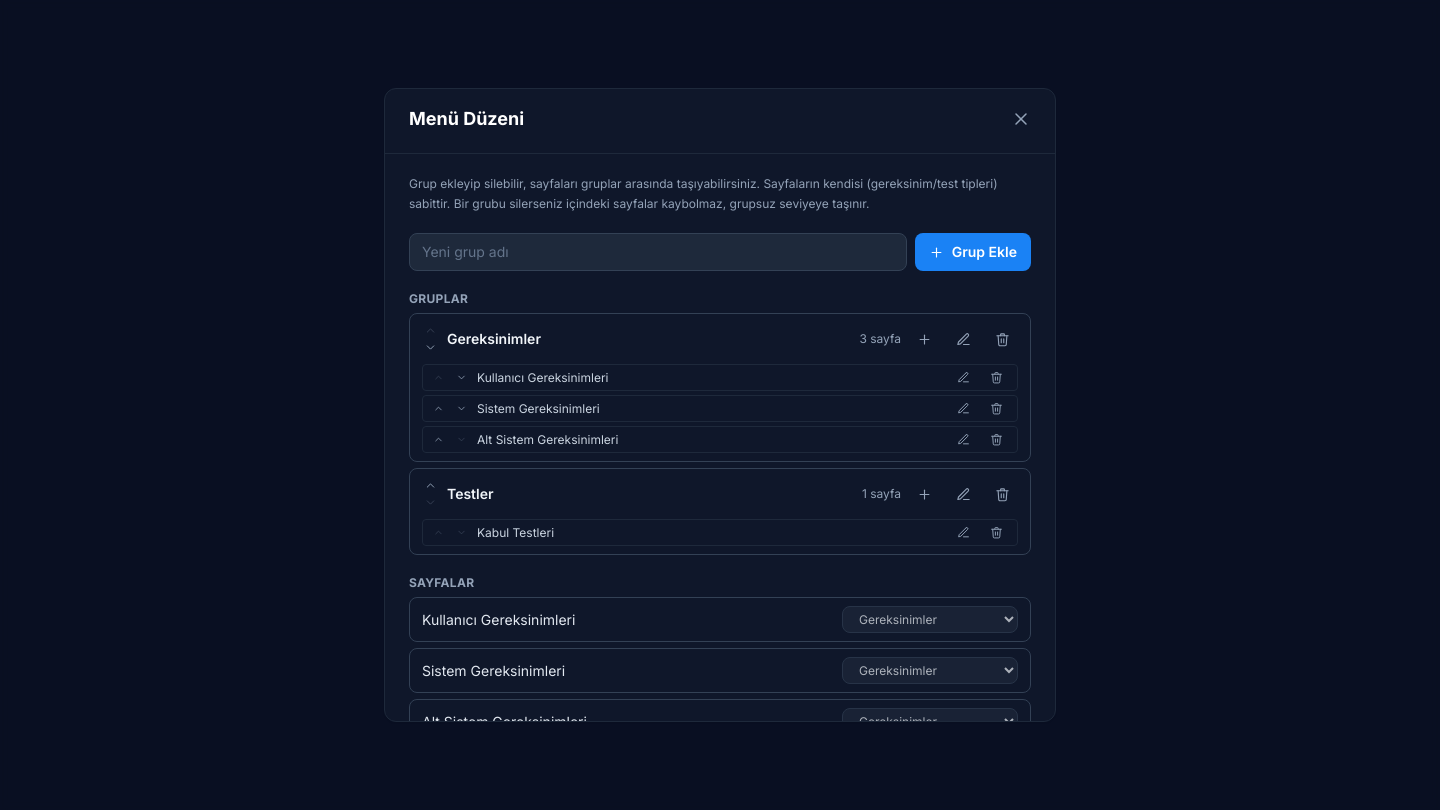
Test: NavManager — grup yeniden adlandirma / silme › silme onayindan vazgecilirse API cagrilmaz
The image size is (1440, 810).
Click the button named "Gereksinimler Sil".
click(1002, 339)  # box x1=987 y1=324 x2=1018 y2=354
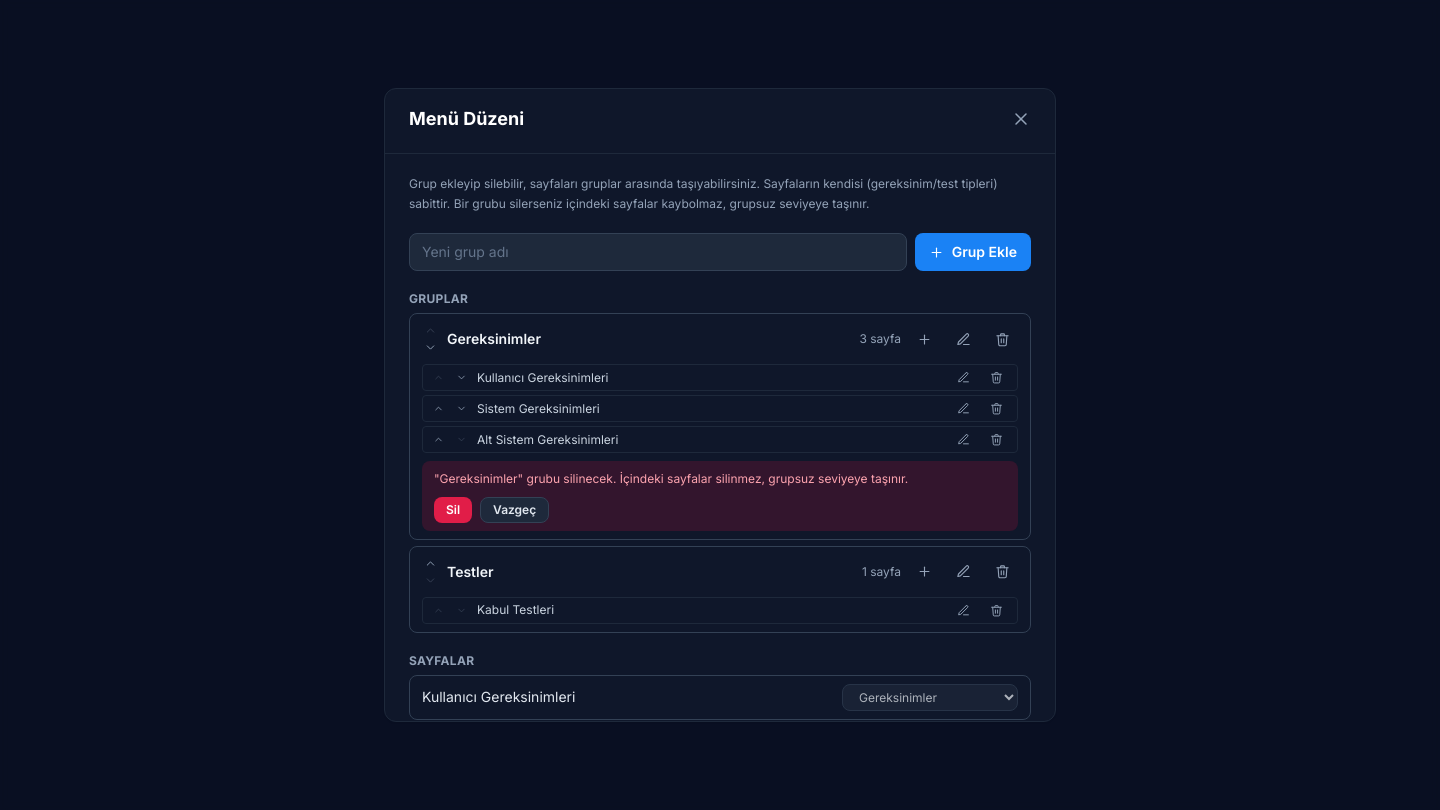
Expected: the button with test id "nav-group-delete-confirm" is shown, x1=434 y1=496 x2=472 y2=522
Click the button "Vazgeç".
click(515, 510)  # box x1=480 y1=496 x2=549 y2=522
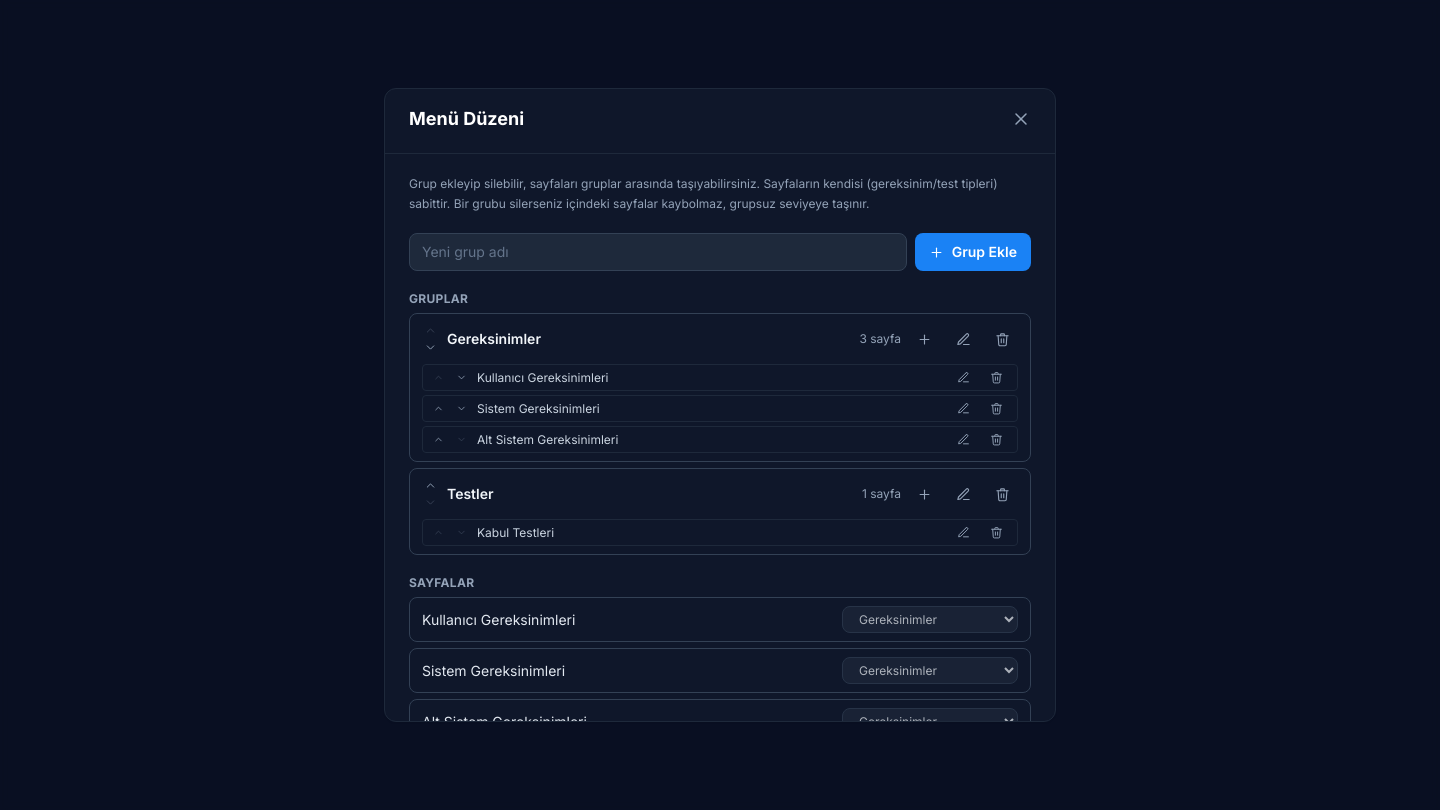
Expected: the button with test id "nav-group-delete-confirm" is gone
